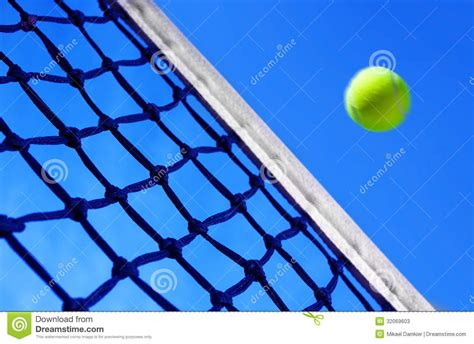tennis_ball: (343, 65, 412, 132)
